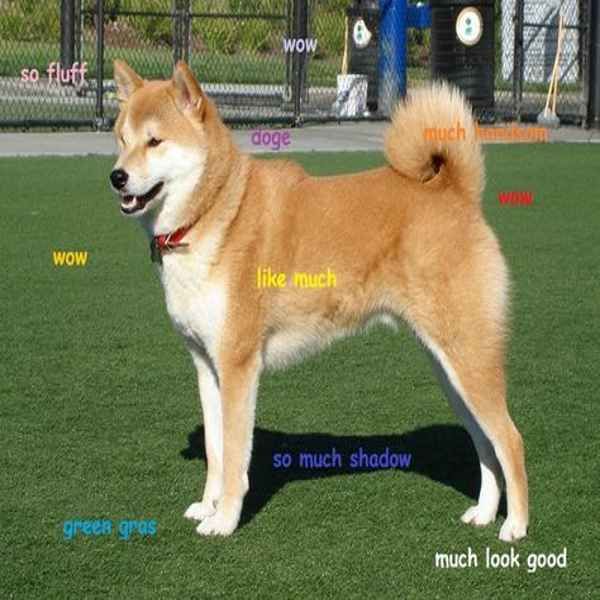doge: (89, 53, 236, 226)
